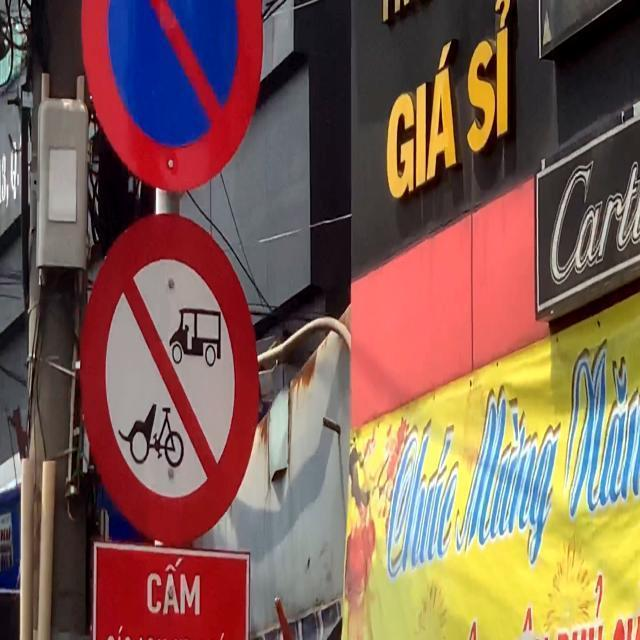131a-cam-do-xe: (77, 2, 266, 194)
